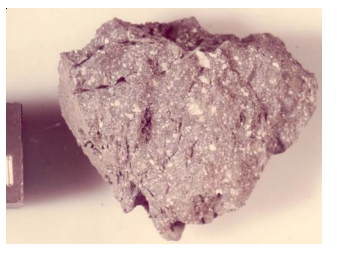Breccia: (61, 18, 314, 243), (139, 75, 228, 193)
